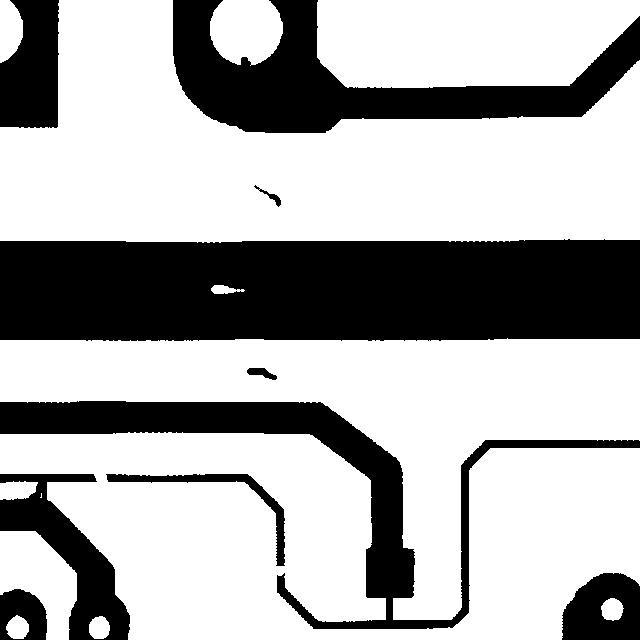copper: (244, 175, 290, 216), (237, 358, 286, 389)
open: (84, 461, 117, 494), (261, 555, 297, 585)
pin-hole: (201, 275, 254, 303)
short: (19, 468, 56, 514), (374, 575, 402, 633)
spur: (231, 47, 260, 76)
